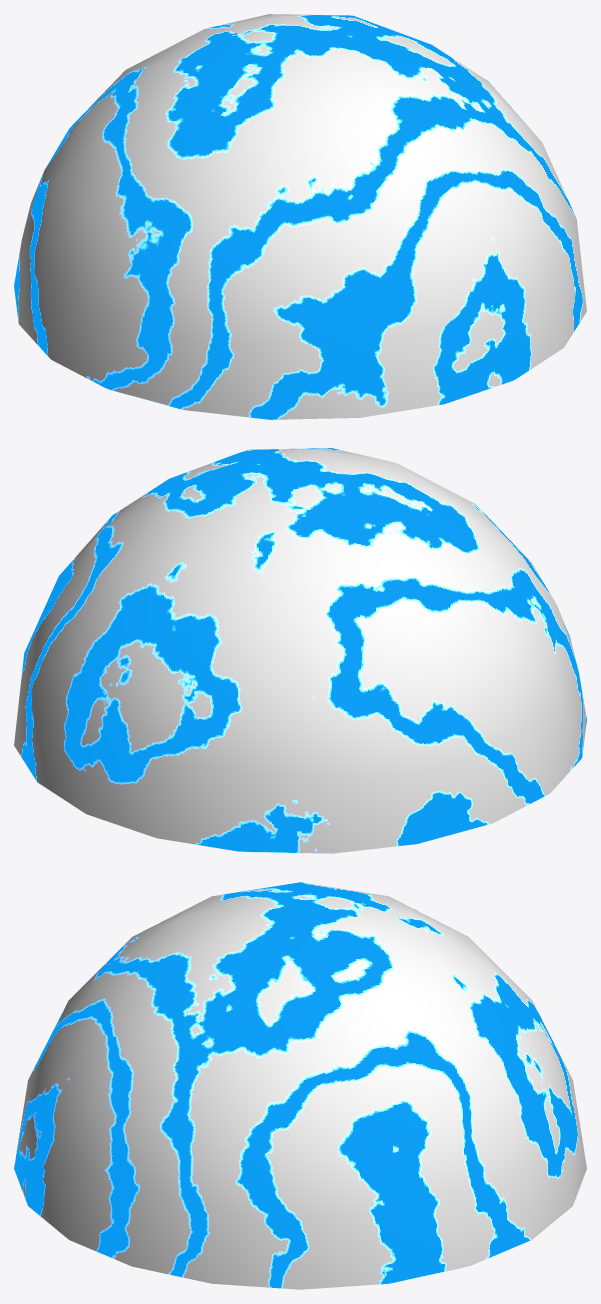
The model's file is SupremeSix.fbx.
The picture shows the model from 3 angles, top to bottom: view 1: azimuth 30°, elevation 25°; view 2: azimuth 150°, elevation 25°; view 3: azimuth 270°, elevation 25°; orthographic projection.
Visible parts, largest first — view 1: supreme_6; view 2: supreme_6; view 3: supreme_6.
Boxes of the visible parts, <box> form: supreme_6: <box>14,14,586,419</box>; supreme_6: <box>14,448,586,853</box>; supreme_6: <box>14,882,586,1289</box>.
Size of the model in its own units: 200 by 200 by 100.
